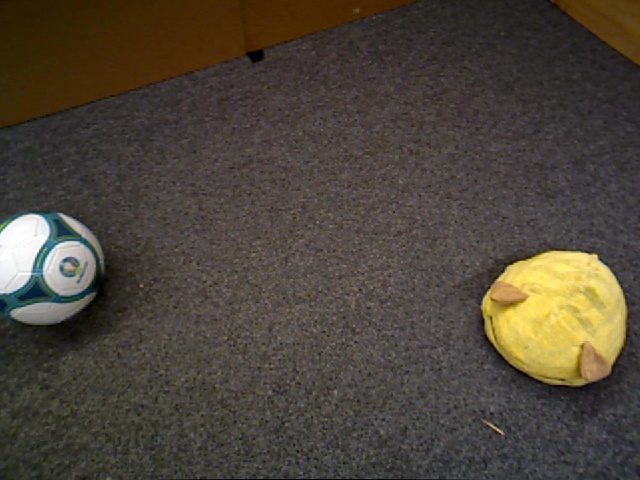grasp: (483, 248, 627, 387)
kick: (1, 213, 106, 326)
